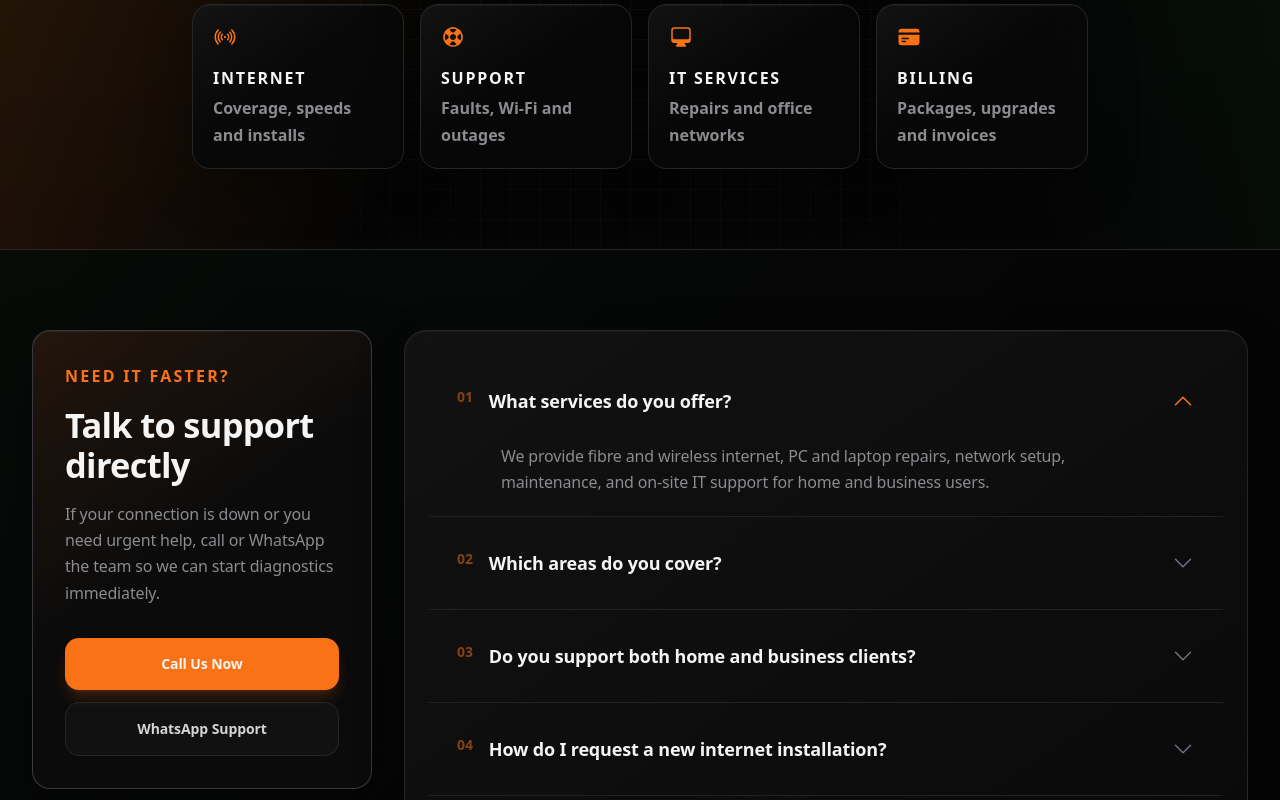
Test: FaqPage › opens and closes FAQ items when clicked
(page scrolled)
# Click to close
Click the button "01 What services do you offer?".
click(610, 401)  # box x1=445 y1=375 x2=1207 y2=427
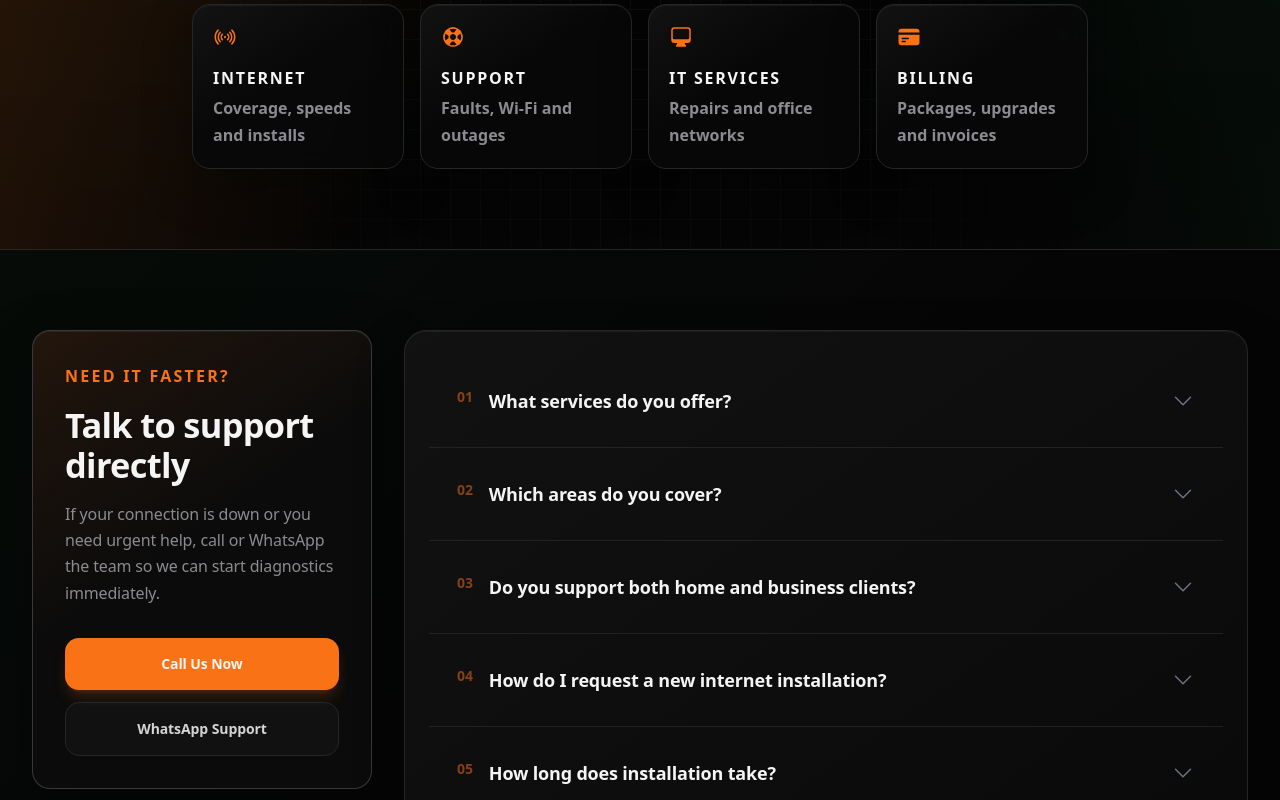
Check: the button "01 What services do you offer?" is collapsed
# Click to open again
Click the button "01 What services do you offer?".
click(610, 401)  # box x1=445 y1=375 x2=1207 y2=427
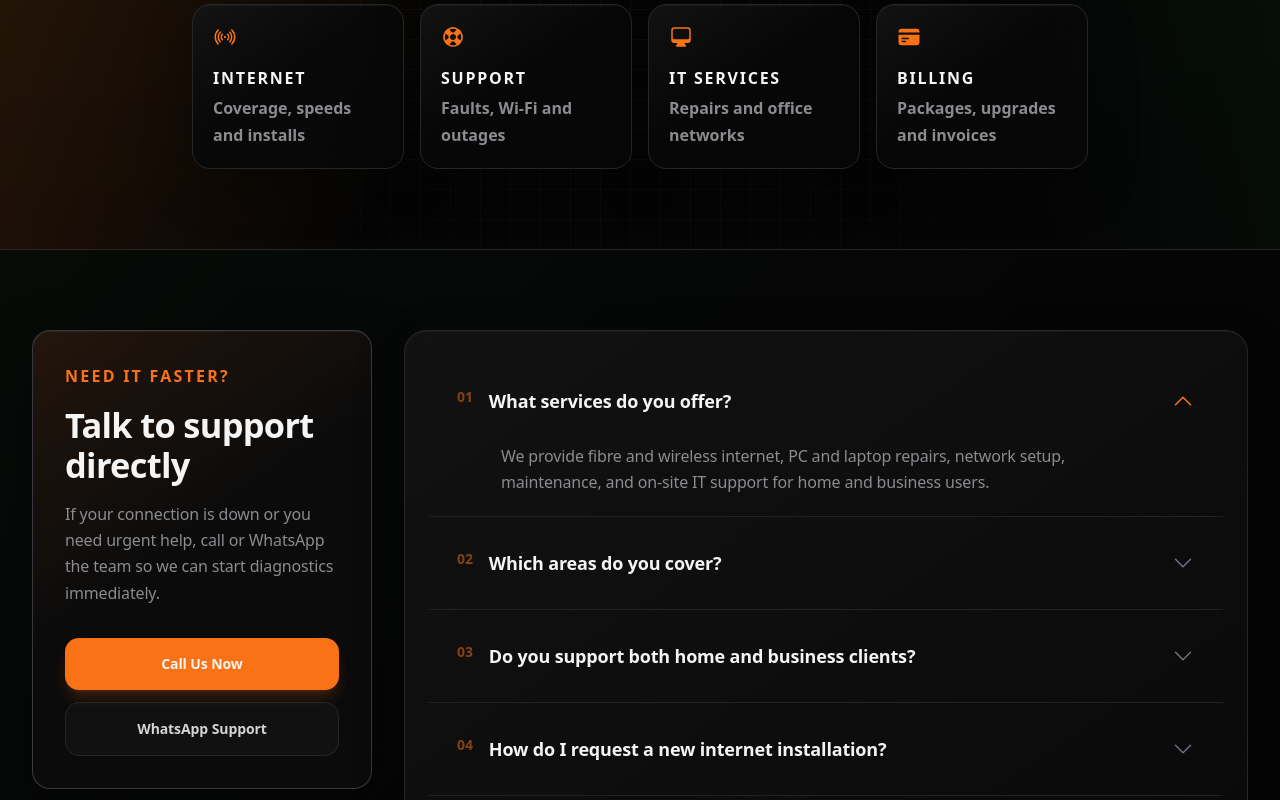
Check: the button "01 What services do you offer?" is expanded, box x1=445 y1=375 x2=1207 y2=427
